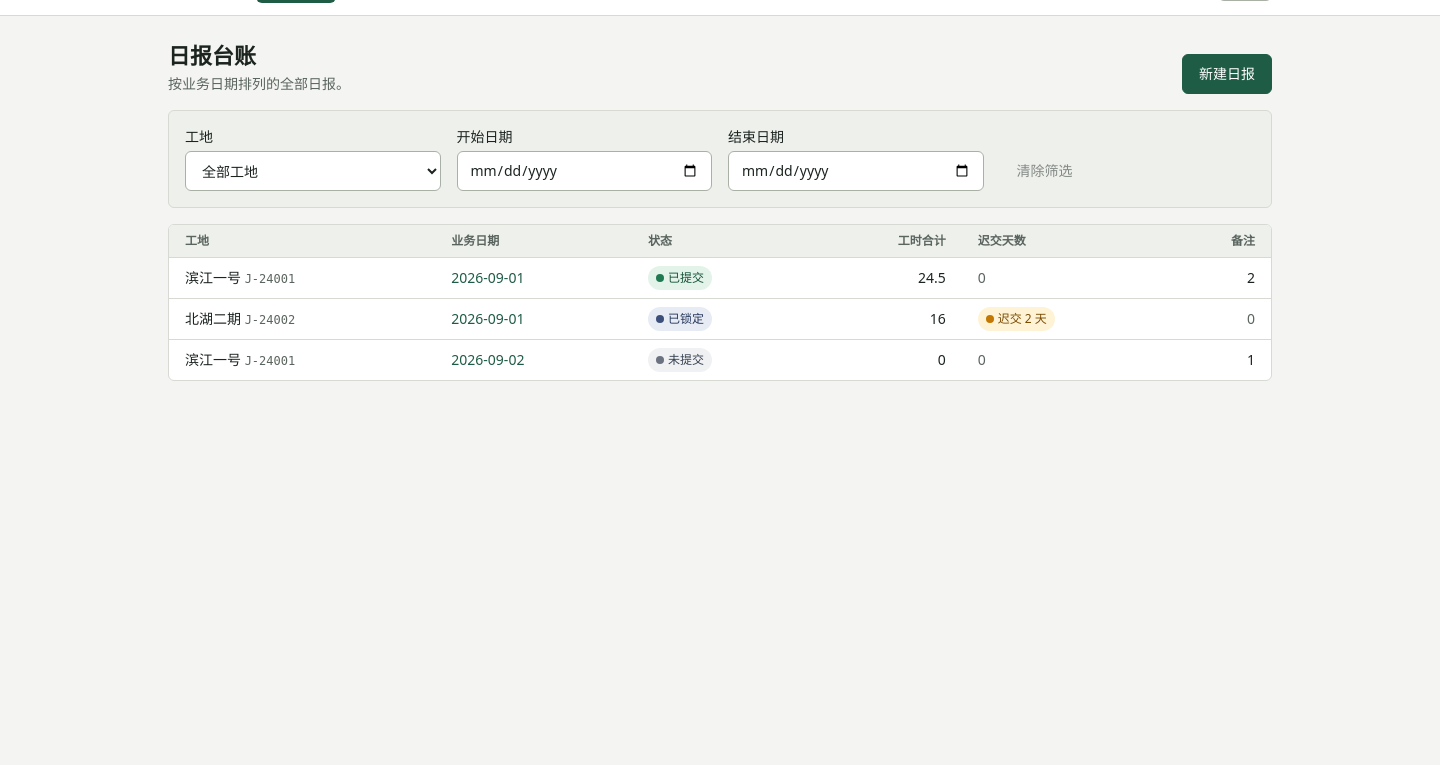
ReportsPage › creates a report from the dialog and opens it
The image size is (1440, 765).
Click the button "新建日报" at x=1227, y=74, box left=1182, top=54, right=1272, bottom=94
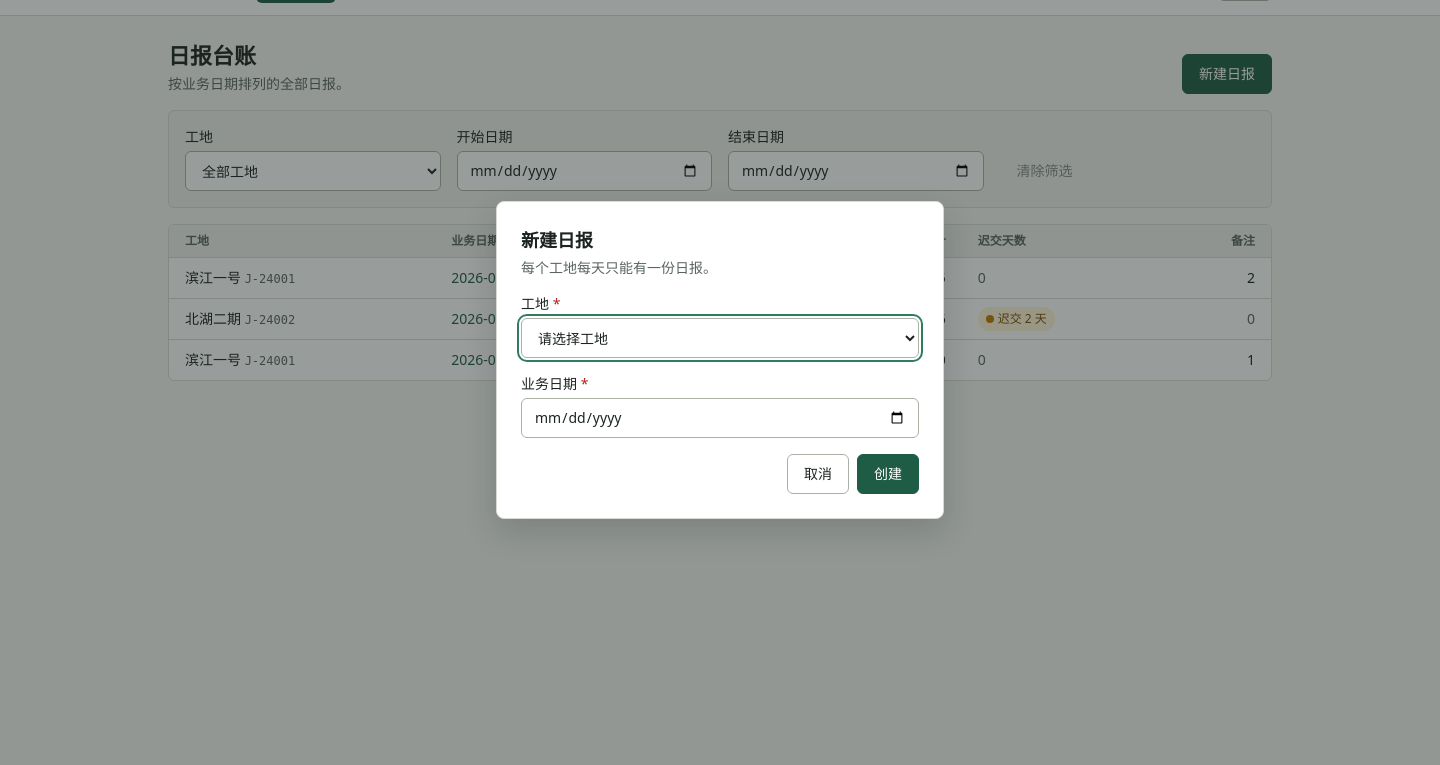
Click the button "创建" at x=888, y=474, box left=857, top=454, right=919, bottom=494
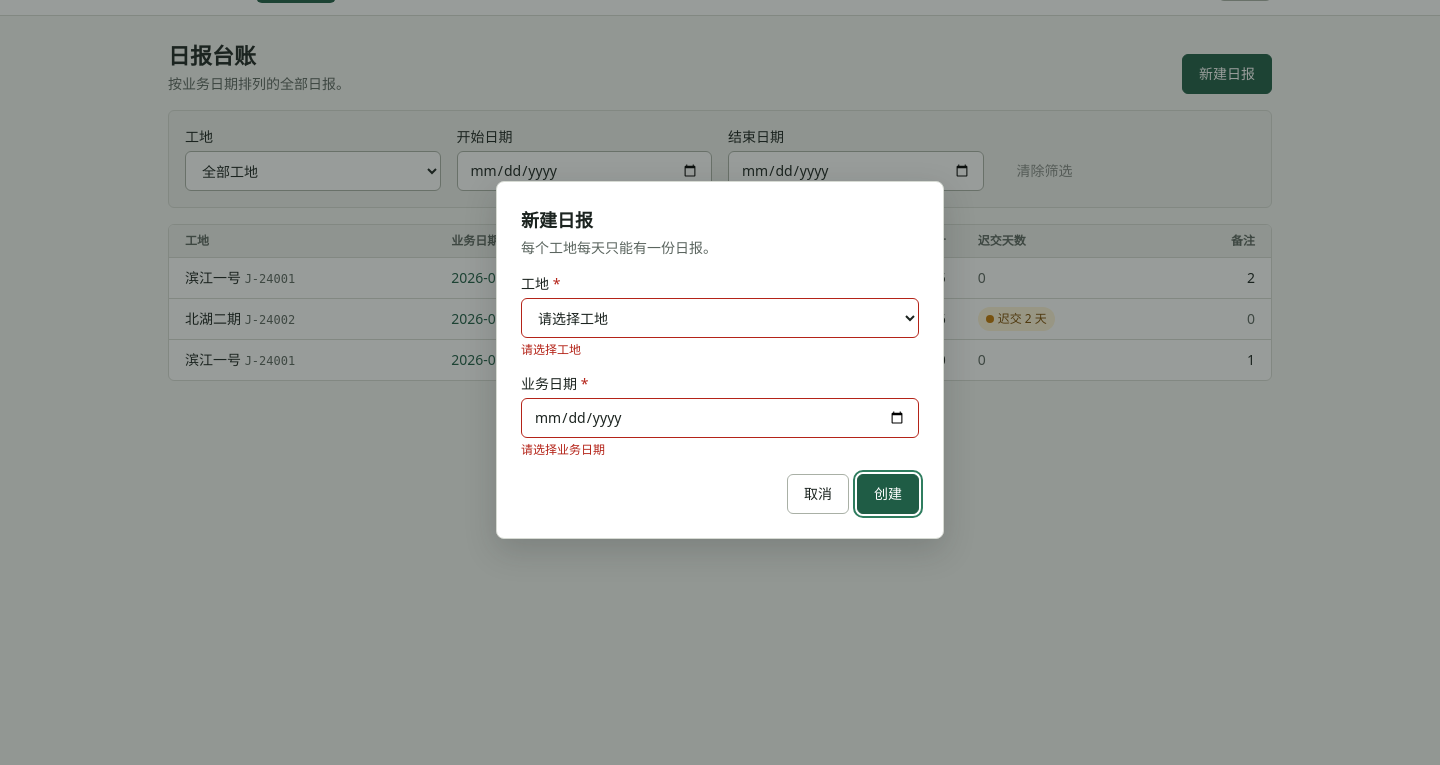
Expected: the text "请选择工地" is shown, left=521, top=341, right=581, bottom=358
Select "滨江一号（J-24001）" in the dropdown labelled "工地 *" at x=720, y=318, box left=521, top=298, right=919, bottom=338
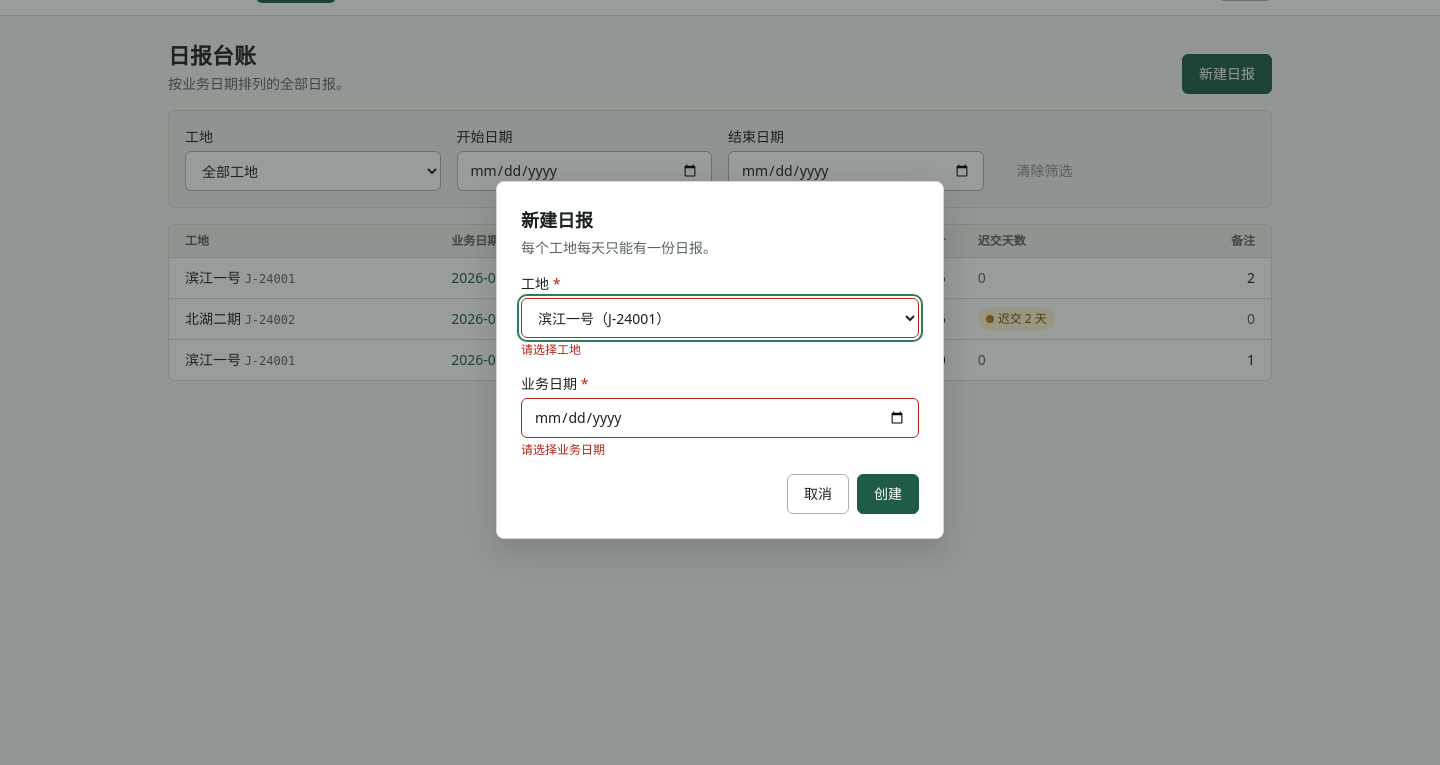
Type "2026-09-03" into the date field labelled "业务日期 *" at x=720, y=418, box left=521, top=398, right=919, bottom=438
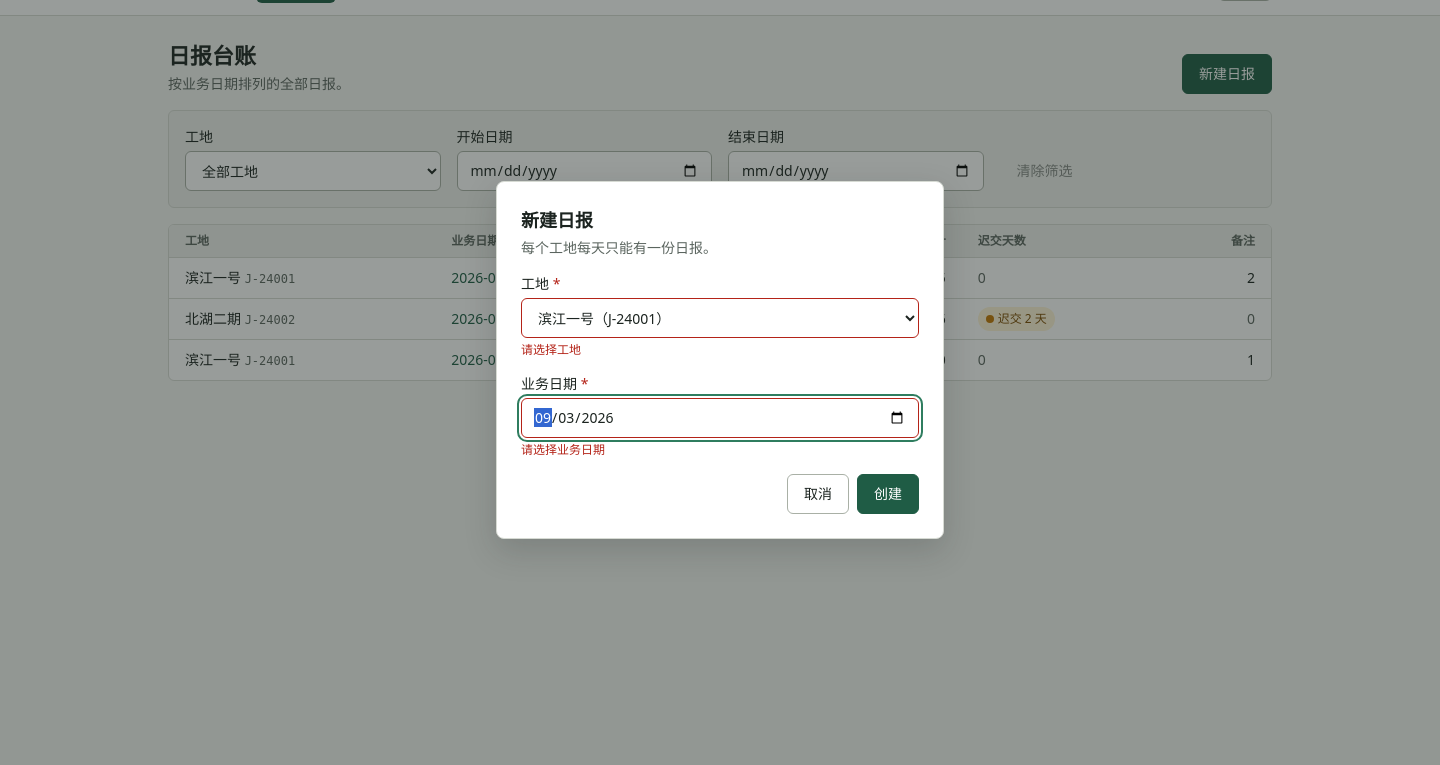
Click the button "创建" at x=888, y=494, box left=857, top=474, right=919, bottom=514
(page scrolled)
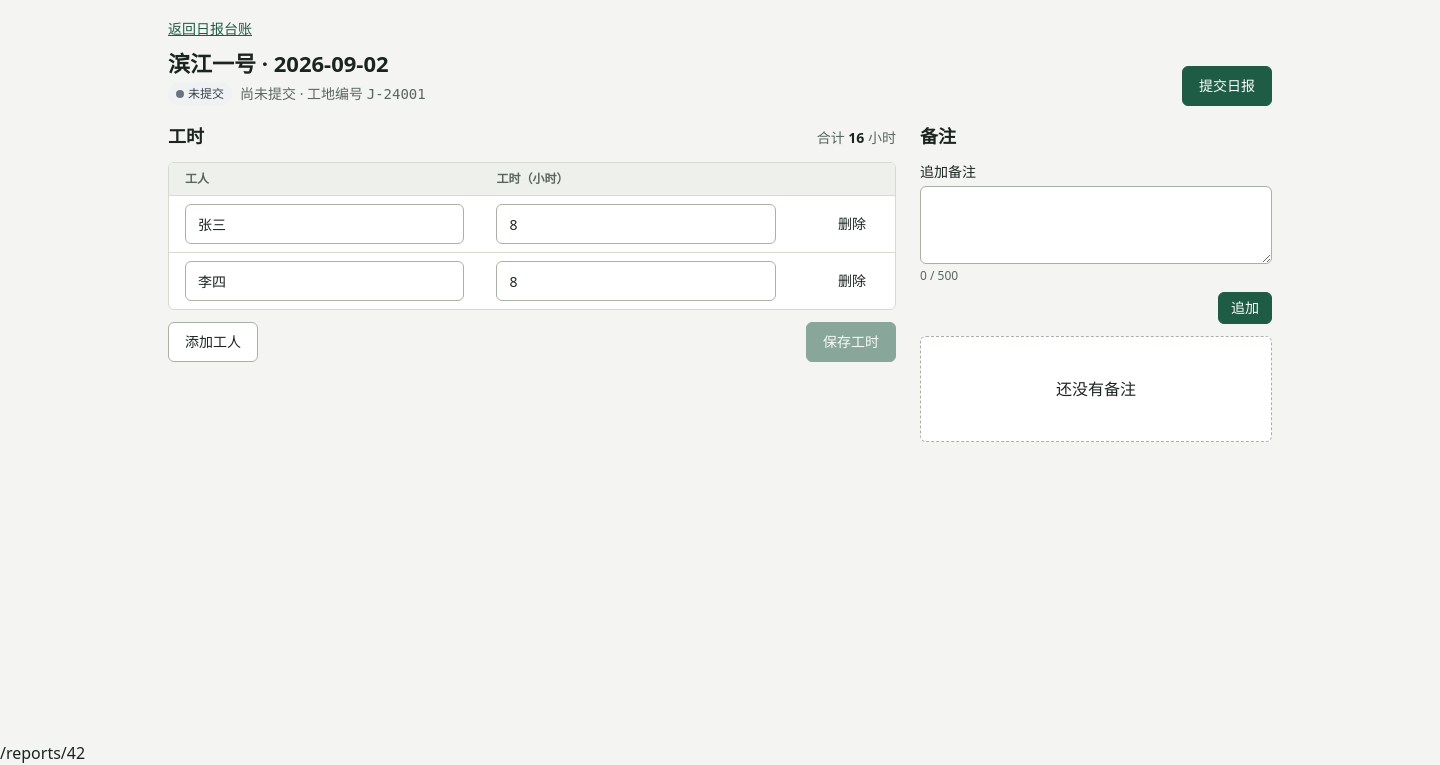
Expected: the text with test id "location" reads "/reports/42", left=0, top=742, right=85, bottom=764
